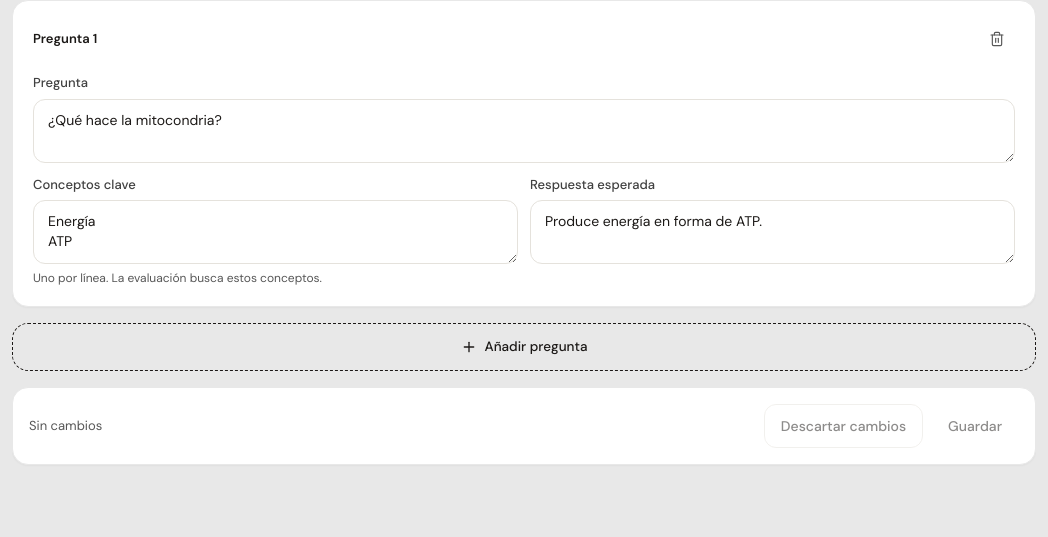
Test case: RecallQuestionsEditor › explains a RECALL_LAST_QUESTION refusal
Replace the text in the text box labelled "Pregunta" with "¿Nueva?": (524,130) top-left (33, 98), bottom-right (1015, 162)
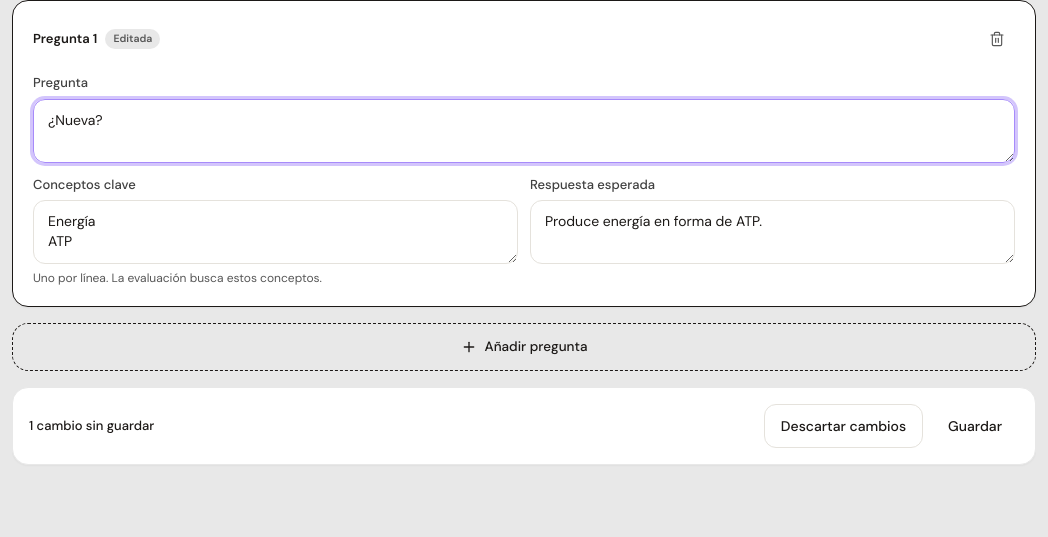
Click the button "Guardar": (975,426) top-left (931, 404), bottom-right (1019, 448)
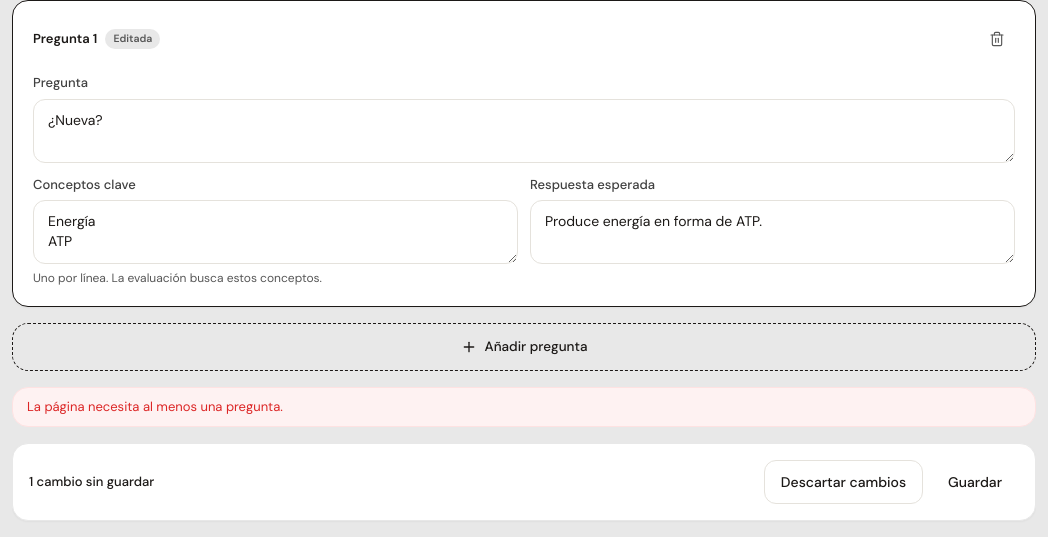
Check: the message shows "al menos una pregunta", box top-left (27, 398), bottom-right (283, 415)
